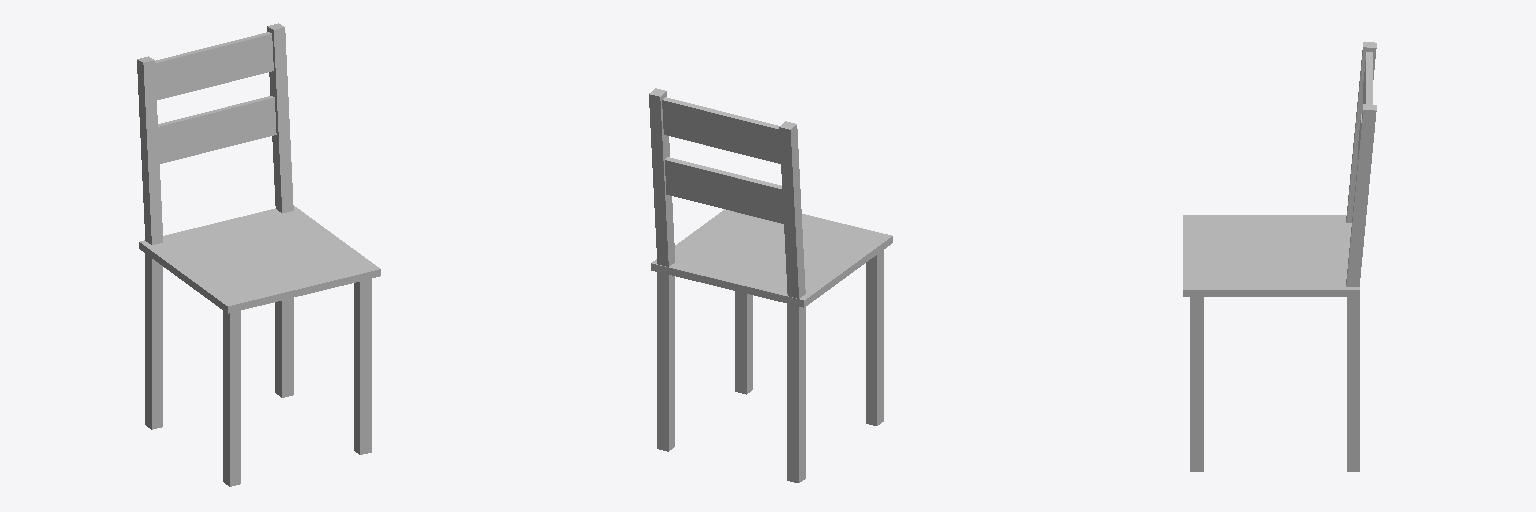
File: chair.obj
The picture shows the model from 3 angles: view 1: azimuth 30°, elevation 25°; view 2: azimuth 150°, elevation 25°; view 3: azimuth 270°, elevation 25°; orthographic projection.
Visible parts, largest first — view 1: Assise, Dossier_1, Dossier, Montant, Pied_3, Pied, Pied_2, Montant_1, Pied_1; view 2: Assise, Dossier, Dossier_1, Pied_2, Montant, Pied_1, Pied_3, Montant_1, Pied; view 3: Assise, Montant_1, Pied, Pied_1, Montant.
Part boxes in pixels (x1,y1,x2,y2): Assise: (139,206,380,313); Dossier_1: (155,32,273,99); Dossier: (158,96,276,163); Montant: (137,56,162,244); Pied_3: (223,311,240,486); Pied: (354,279,371,454); Pied_2: (145,254,162,429); Montant_1: (267,23,293,213); Pied_1: (275,298,293,397); Assise: (651,209,892,307); Dossier: (665,157,783,223); Dossier_1: (662,97,780,163); Pied_2: (787,304,805,482); Montant: (779,121,805,298); Pied_1: (657,272,674,451); Pied_3: (866,250,883,425); Montant_1: (649,88,674,266); Pied: (735,291,752,394); Assise: (1183,215,1359,296); Montant_1: (1346,104,1376,286); Pied: (1190,297,1203,471); Pied_1: (1347,297,1359,471); Montant: (1346,42,1376,222).
Size of the model in its own units: 4 by 9.02 by 4.37.